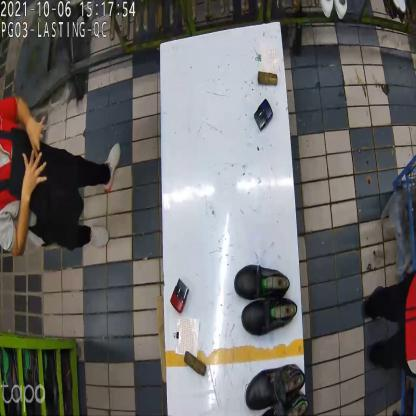shoes: (233, 264, 297, 335), (242, 360, 307, 415)
stamp: (167, 281, 190, 313), (255, 101, 273, 135)
